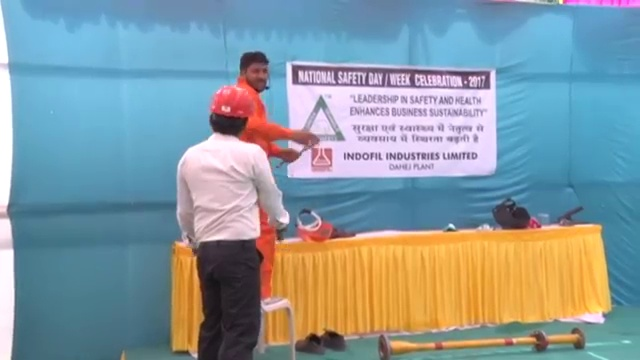helmet: (207, 84, 257, 118)
helmet_off: (238, 50, 271, 92)
helmet_on: (206, 85, 256, 140)
person: (173, 82, 287, 360), (212, 51, 311, 299)
